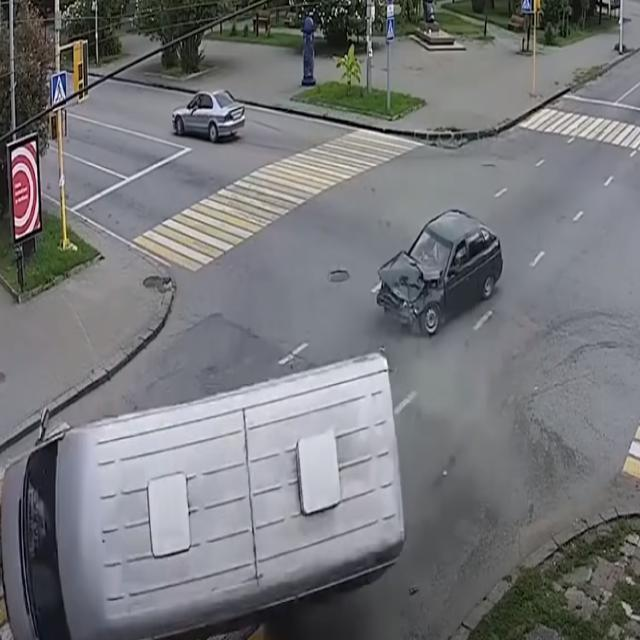accident: (0, 210, 504, 640)
